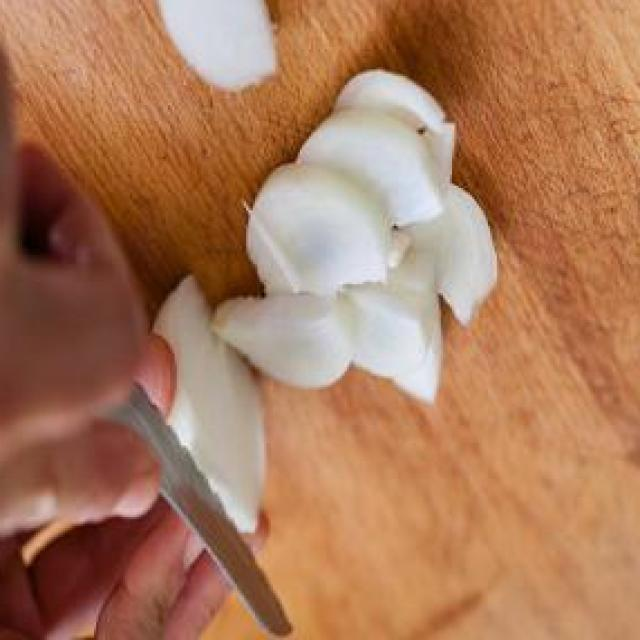knife: (85, 376, 298, 640)
